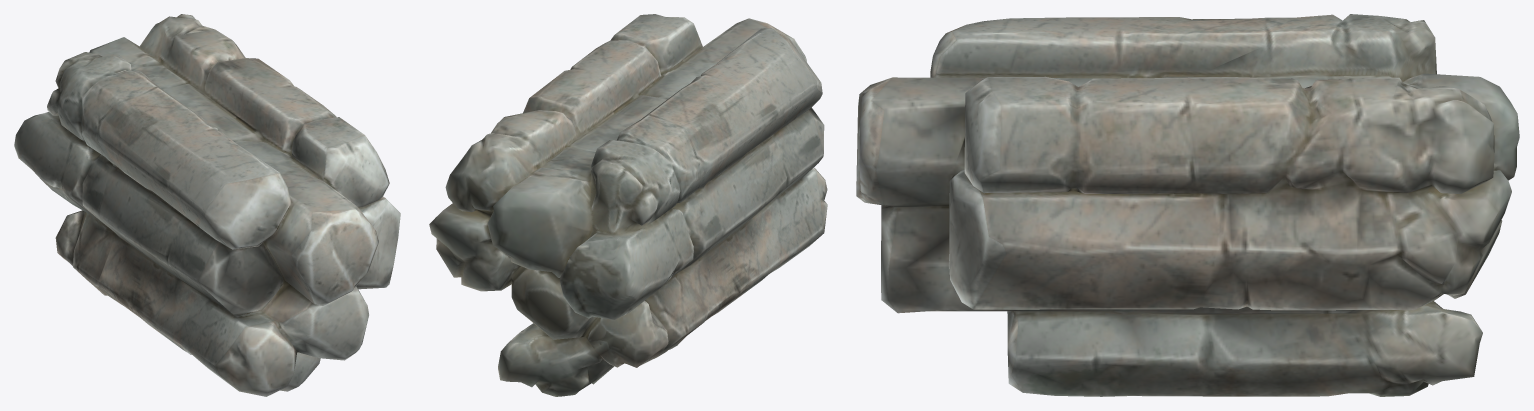
Rendered from VD_Basalt_Group_B.fbx.
The picture shows the model from 3 angles, left to right: view 1: azimuth 30°, elevation 25°; view 2: azimuth 150°, elevation 25°; view 3: azimuth 270°, elevation 25°; orthographic projection. The views are drawn at different scales.
Parts seen in each view (by area): view 1: VD_Basalt_Group_B; view 2: VD_Basalt_Group_B; view 3: VD_Basalt_Group_B.
Part boxes in pixels (box(x1,y1,x2,y2)): VD_Basalt_Group_B: box(14, 14, 400, 396); VD_Basalt_Group_B: box(429, 14, 827, 396); VD_Basalt_Group_B: box(856, 14, 1519, 396).
Size of the model in its own units: 262 by 293 by 528.
